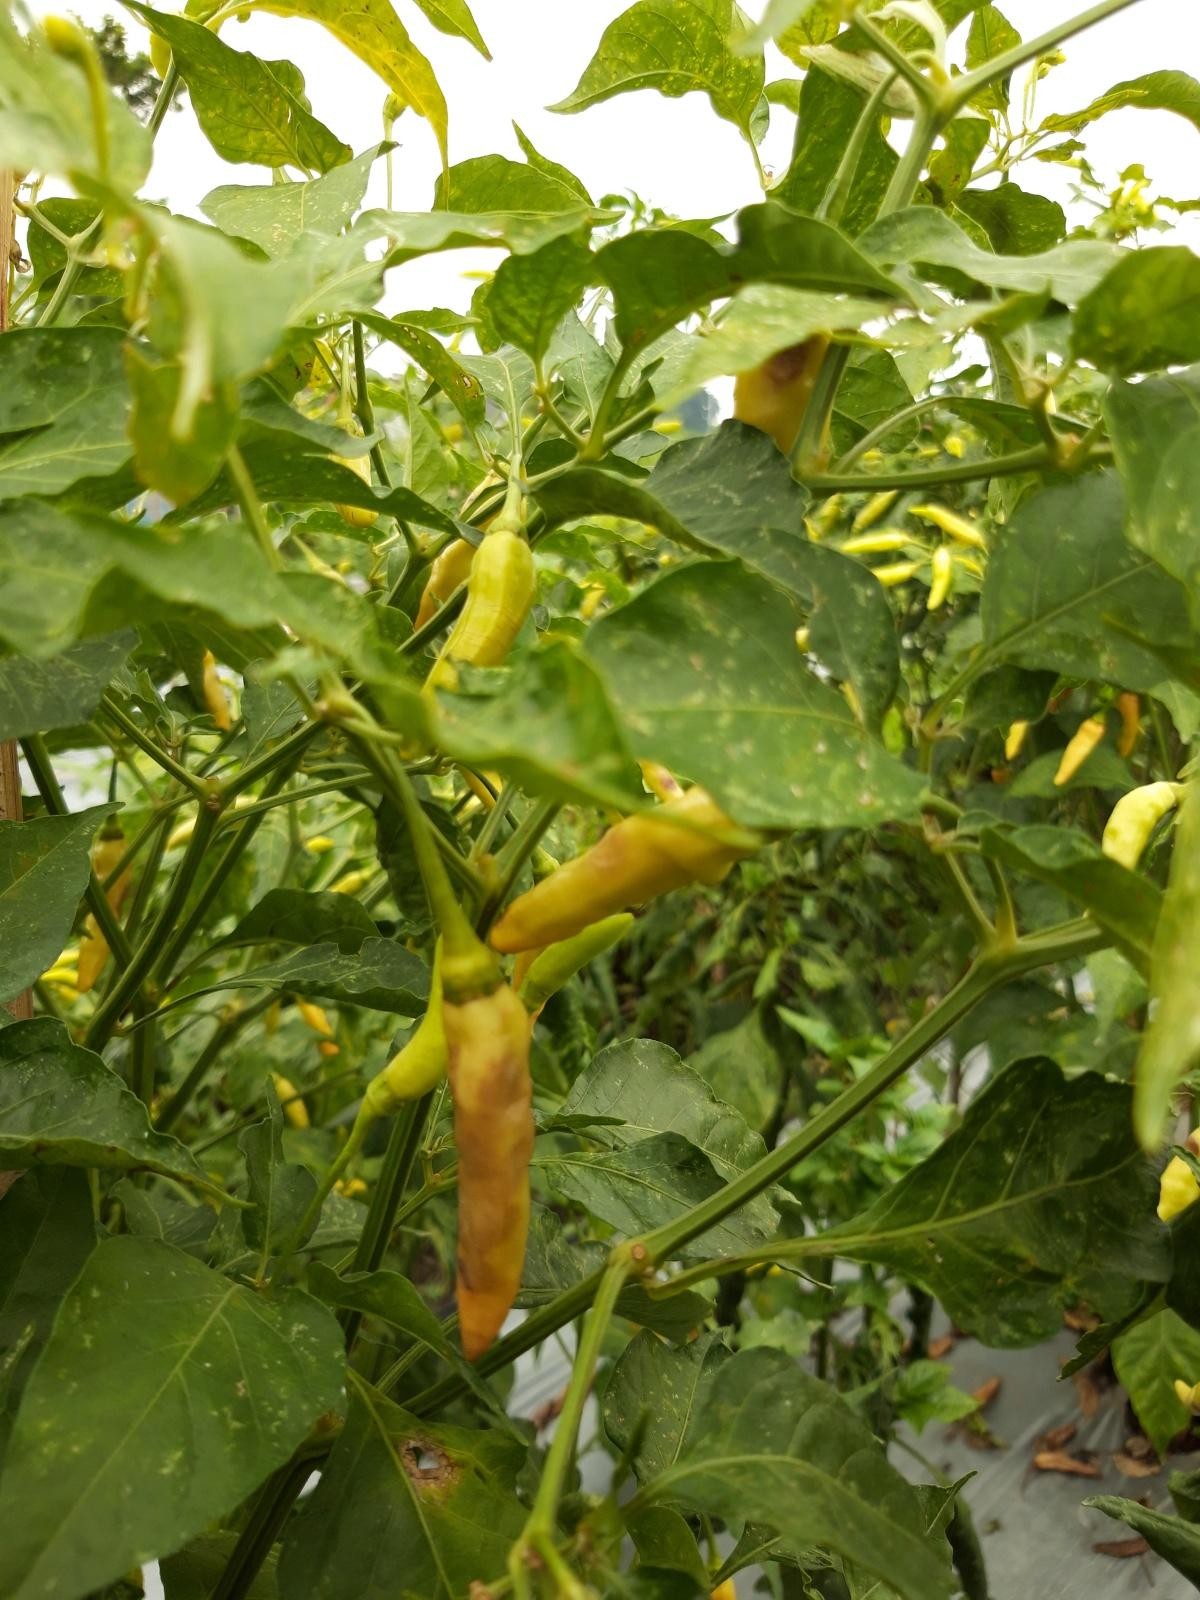cabai_normal: (418, 517, 538, 707), (1103, 780, 1179, 876), (1053, 713, 1105, 785), (908, 504, 983, 548), (925, 546, 950, 611), (841, 533, 910, 552)
lalat_buah: (487, 786, 778, 955), (437, 956, 536, 1356)
